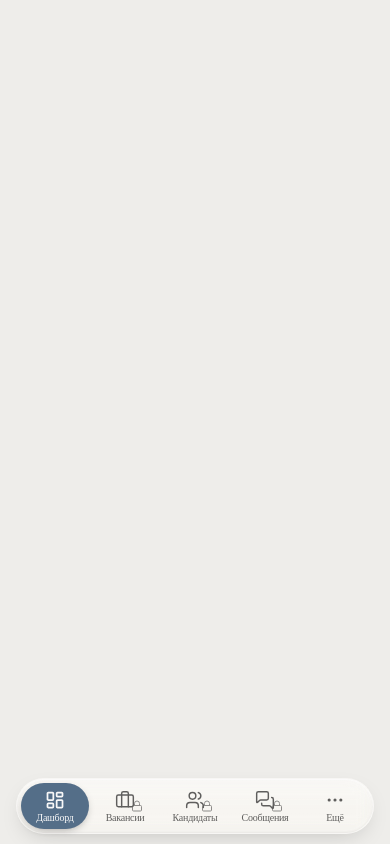
it: нижняя панель разделов › раздел до договора — с замком, как в боковом меню
Check: the number of icons named "Откроется после договора" is 3, box [131, 800, 143, 812]; [201, 800, 213, 812]; [271, 800, 283, 812]
Step 1. Click the button "Ещё" → (335, 806), box [301, 783, 369, 829]
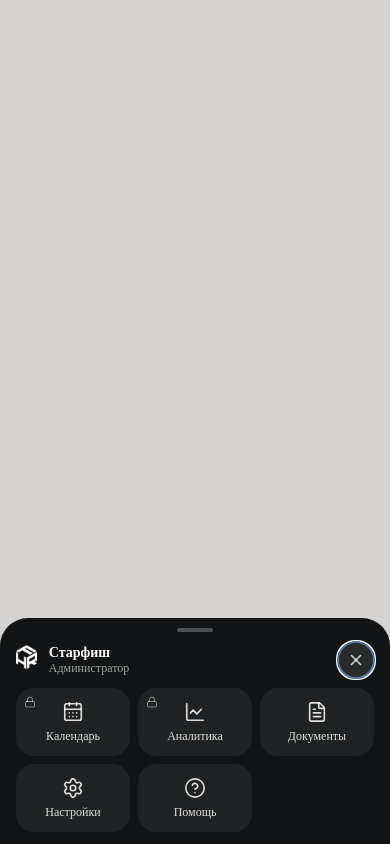
Check: the number of icons named "Откроется после договора" is 2, box [24, 696, 36, 708]; [146, 696, 158, 708]
